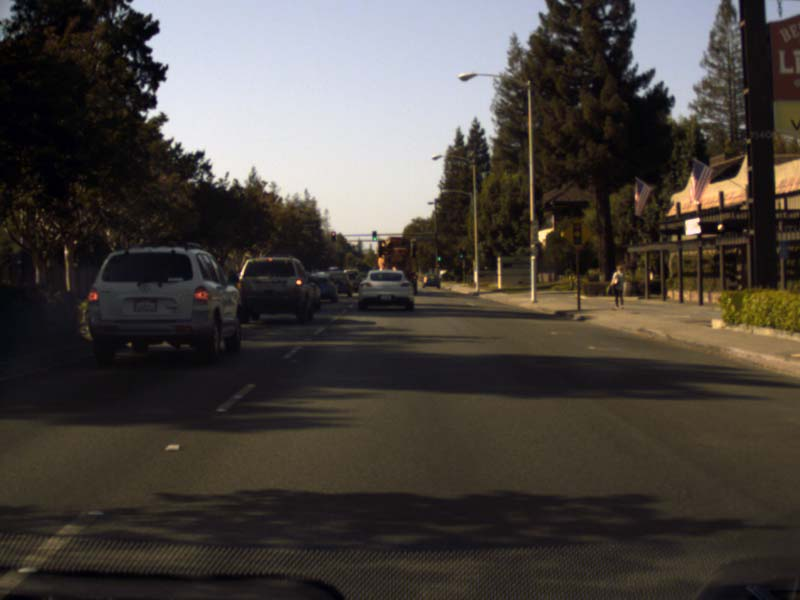Green: (459, 246, 463, 260), (436, 251, 441, 262), (372, 230, 375, 240)
Red: (331, 231, 335, 240)
